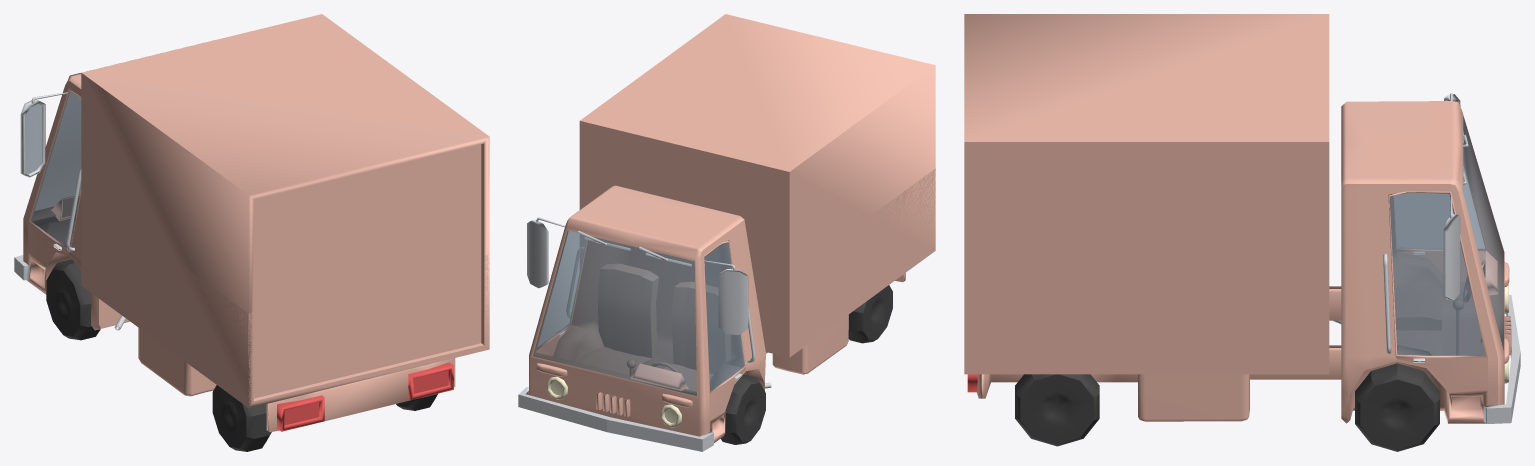
The model's file is KFB_CVP1_truck.glb.
3 renders of one model, left to right at view 1: azimuth 30°, elevation 25°; view 2: azimuth 150°, elevation 25°; view 3: azimuth 270°, elevation 25°, orthographic. The views are drawn at different scales.
Parts seen in each view (by area): view 1: Case, CaseDoorR, CaseDoorL, CaseOpen, Glass, FrameMoving, Cabin, WheelFL, WheelRL, TankL, MirrorCase, LightRearCase (+4 smaller); view 2: Case, WindowFront.1, Cabin, CaseOpen, Interior, SeatR, SeatL, BumperFront, Glass, Glass.2, WheelFL, MirrorCase (+8 smaller); view 3: Case, CaseOpen, Cabin, Glass.2, Interior, WheelFR, TankR, WheelRR, WindowFront.1, Glass, DoorR, SeatL (+6 smaller).
Boxes of the visible parts, x1=… form: Case: x1=81, y1=14, x2=489, y2=407; CaseDoorR: x1=366, y1=144, x2=481, y2=370; CaseDoorL: x1=254, y1=172, x2=366, y2=398; CaseOpen: x1=81, y1=191, x2=489, y2=406; Glass: x1=29, y1=90, x2=81, y2=247; FrameMoving: x1=266, y1=358, x2=455, y2=432; Cabin: x1=23, y1=73, x2=129, y2=330; WheelFL: x1=46, y1=259, x2=100, y2=340; WheelRL: x1=212, y1=385, x2=271, y2=451; TankL: x1=138, y1=327, x2=216, y2=396; MirrorCase: x1=20, y1=99, x2=45, y2=177; LightRearCase: x1=277, y1=362, x2=453, y2=431; Case: x1=579, y1=14, x2=935, y2=357; WindowFront.1: x1=533, y1=231, x2=696, y2=395; Cabin: x1=529, y1=185, x2=765, y2=442; CaseOpen: x1=581, y1=168, x2=935, y2=356; Interior: x1=533, y1=230, x2=743, y2=395; SeatR: x1=577, y1=263, x2=658, y2=374; SeatL: x1=664, y1=281, x2=730, y2=391; BumperFront: x1=518, y1=387, x2=713, y2=451; Glass: x1=704, y1=242, x2=745, y2=392; Glass.2: x1=537, y1=231, x2=586, y2=348; WheelFL: x1=720, y1=374, x2=765, y2=444; MirrorCase: x1=718, y1=269, x2=748, y2=334; Case: x1=964, y1=14, x2=1329, y2=374; CaseOpen: x1=964, y1=271, x2=1329, y2=374; Cabin: x1=1341, y1=101, x2=1504, y2=423; Glass.2: x1=1389, y1=193, x2=1485, y2=355; Interior: x1=1390, y1=116, x2=1503, y2=355; WheelFR: x1=1355, y1=363, x2=1439, y2=451; TankR: x1=1138, y1=374, x2=1249, y2=421; WheelRR: x1=1015, y1=374, x2=1099, y2=446; WindowFront.1: x1=1463, y1=117, x2=1503, y2=349; Glass: x1=1394, y1=166, x2=1485, y2=249; DoorR: x1=1388, y1=191, x2=1487, y2=389; SeatL: x1=1394, y1=285, x2=1441, y2=330.
Bounding box in the file's own units: 2.5 × 2.77 × 4.36.
